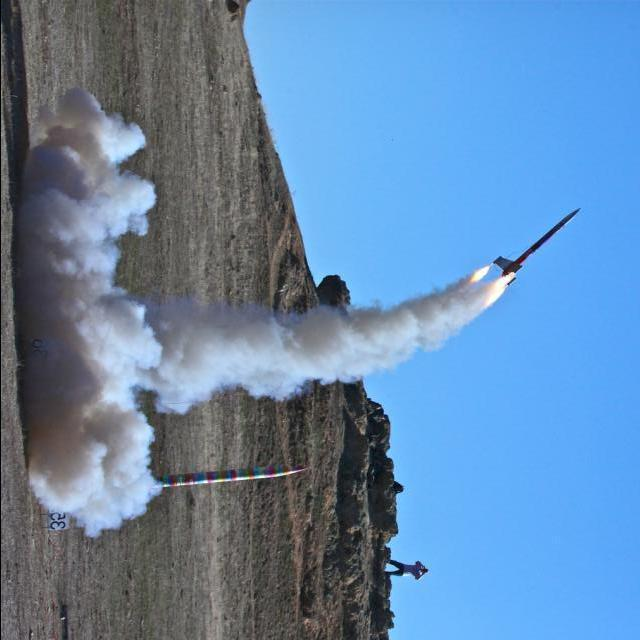missile: (486, 192, 593, 292), (123, 463, 310, 491)
